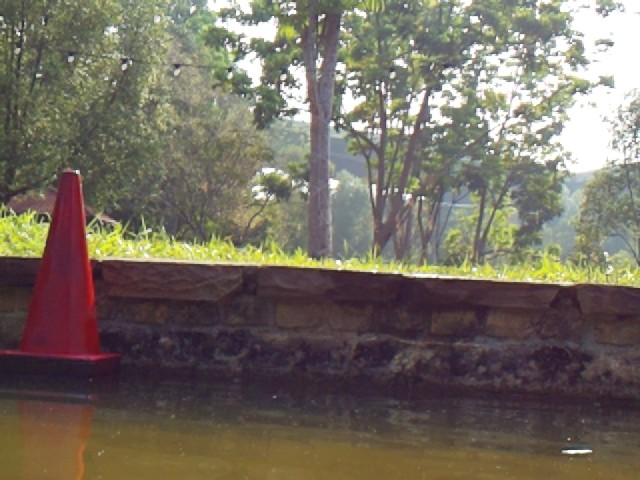obstacle: (1, 170, 122, 381)
